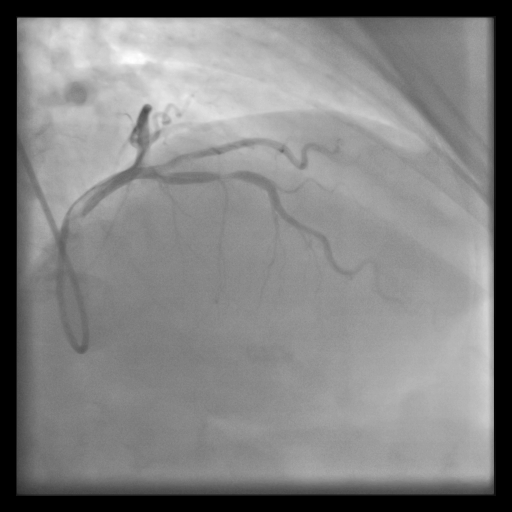Stenosis: (216, 166, 236, 185)
